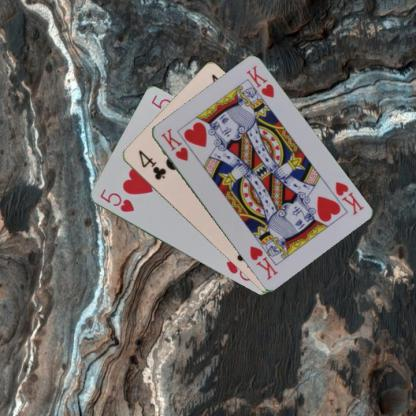4c: (135, 147, 168, 182)
5h: (97, 186, 136, 214)
Kh: (332, 178, 364, 216), (158, 126, 190, 162)
